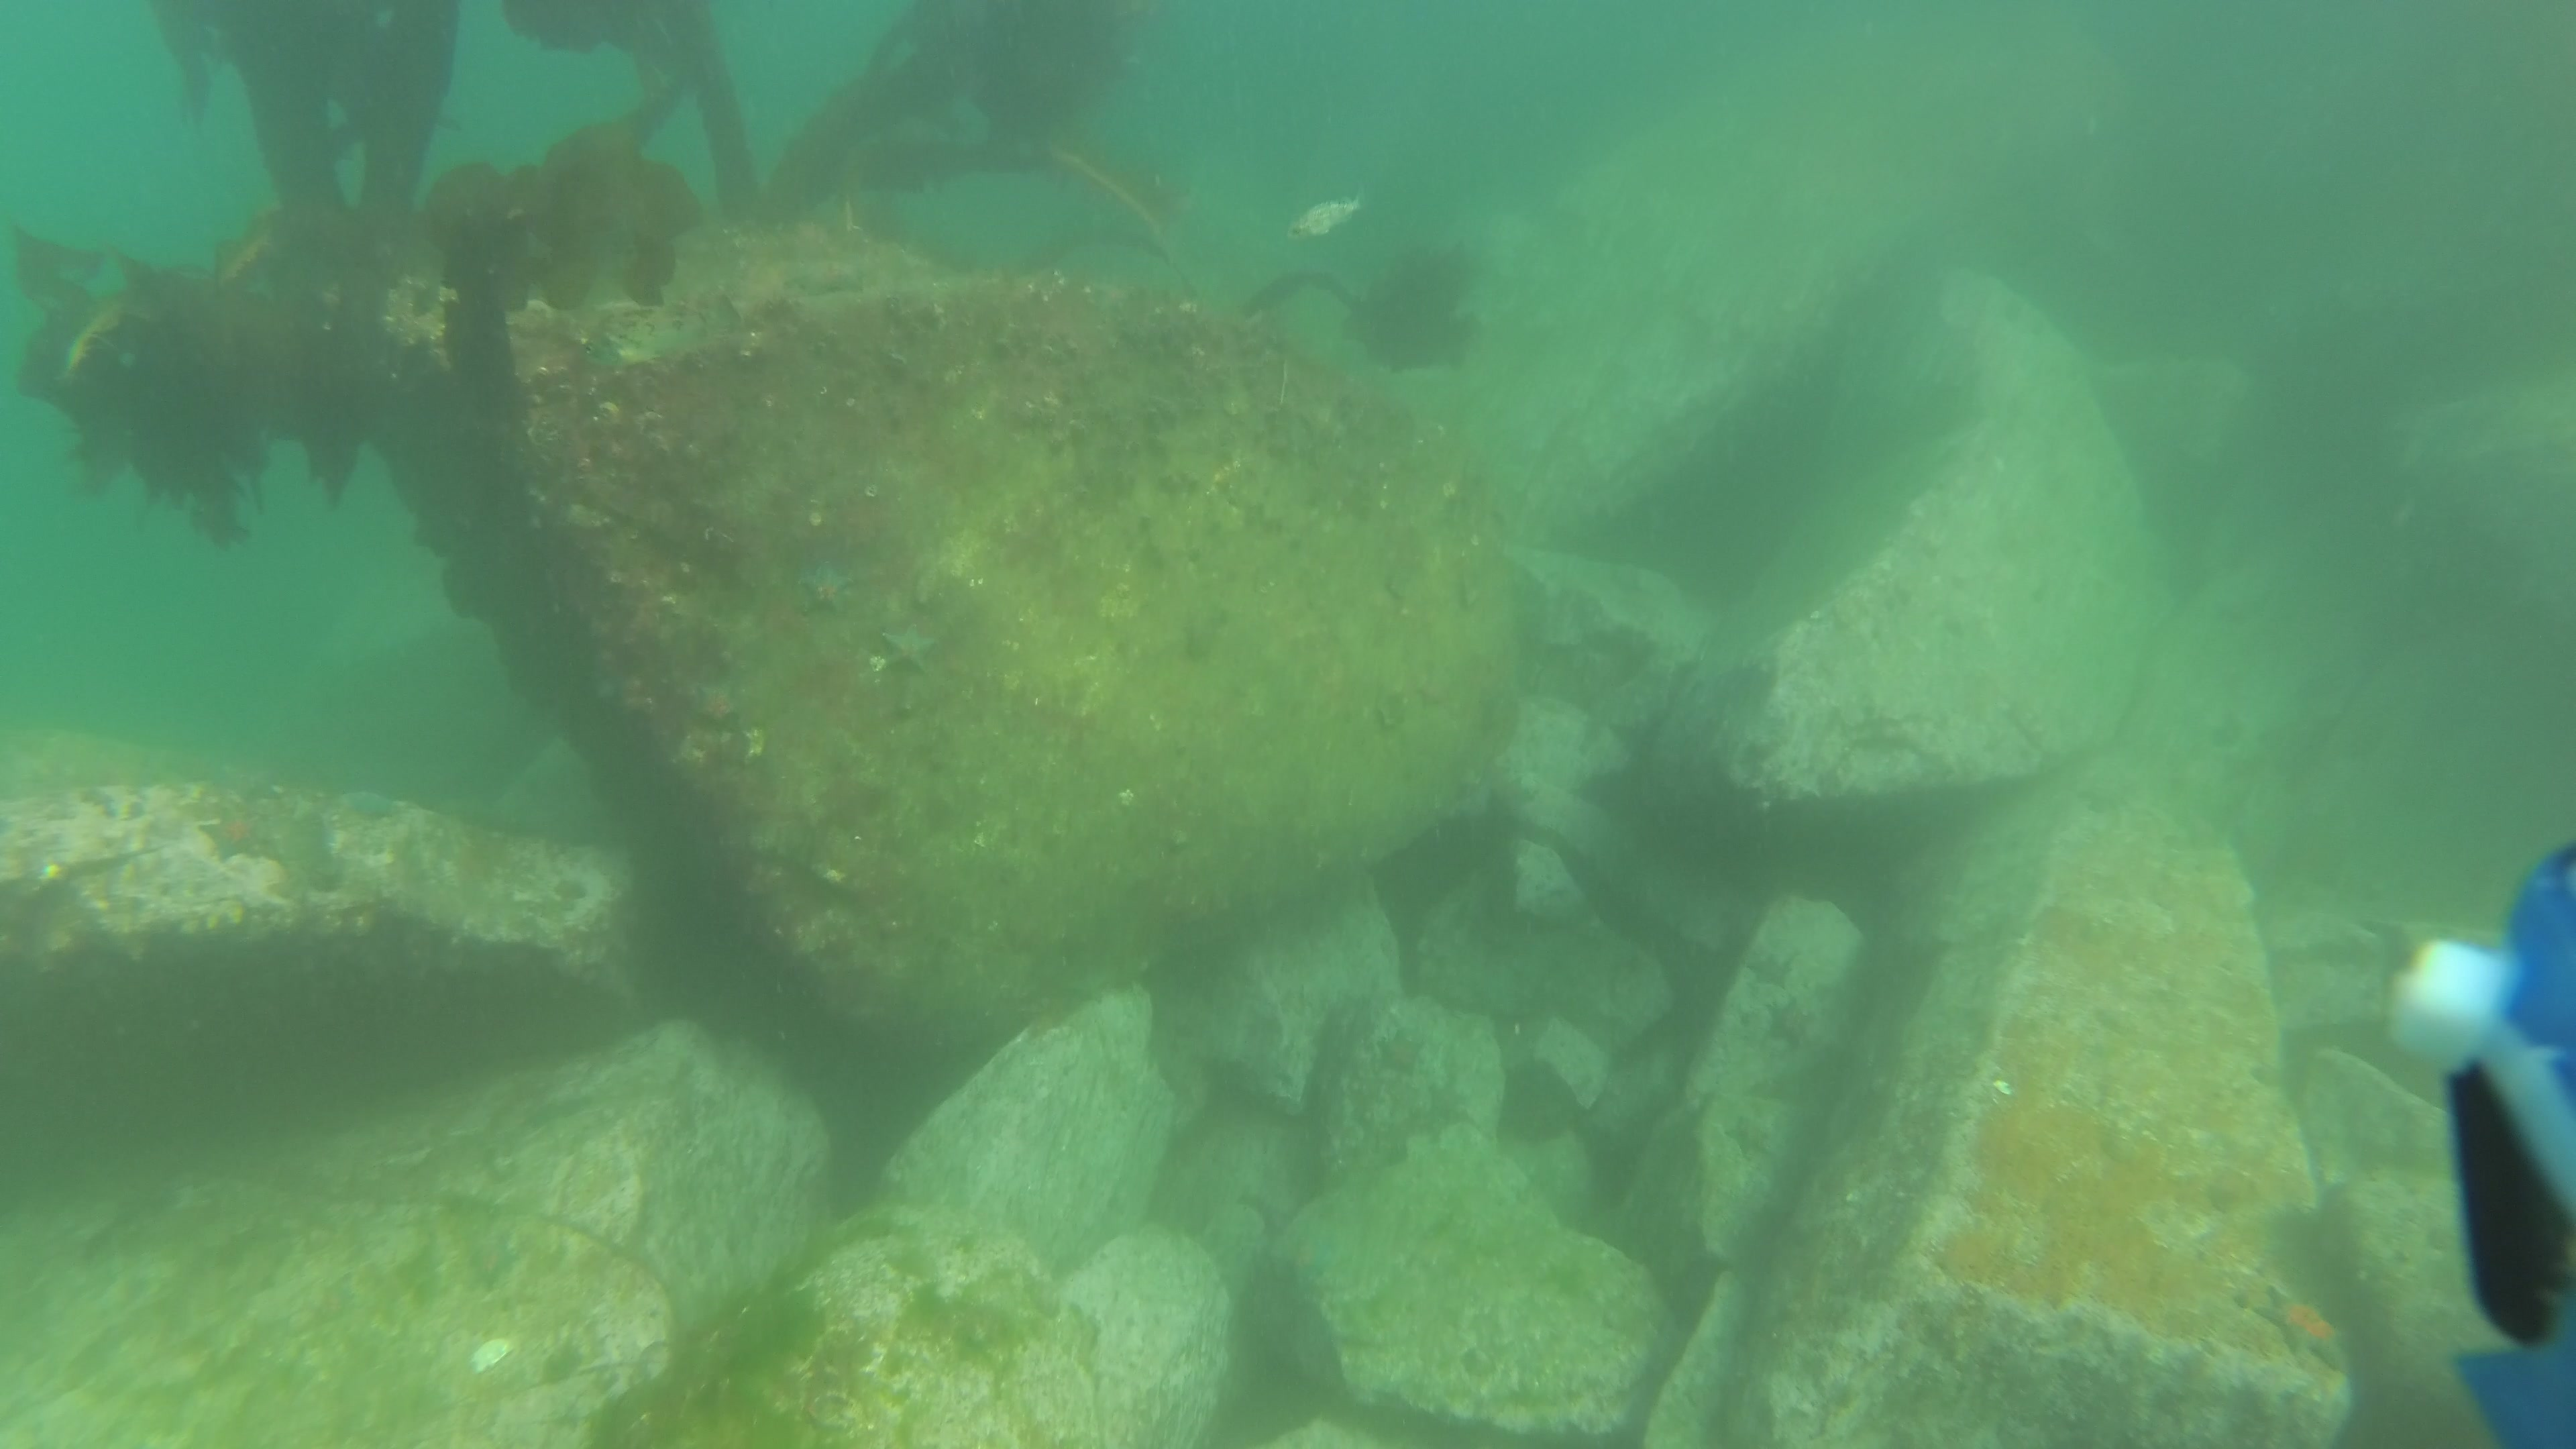starfish: (2250, 1279, 2351, 1376), (196, 805, 269, 865), (782, 255, 874, 301), (876, 617, 939, 683), (794, 559, 855, 623), (464, 1238, 524, 1295), (1718, 1111, 1780, 1161), (690, 678, 745, 732), (1373, 1026, 1428, 1081), (1421, 1077, 1474, 1132), (1766, 1000, 1821, 1053), (1743, 943, 1799, 993), (340, 786, 402, 824)
